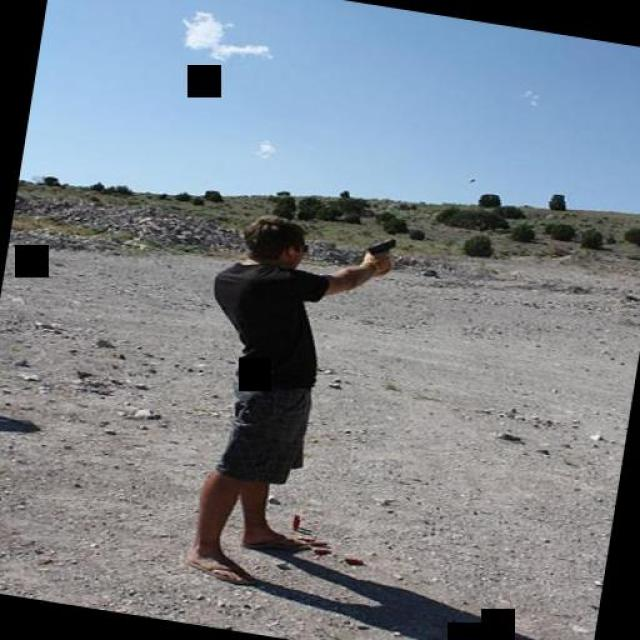gun: (358, 230, 398, 262)
